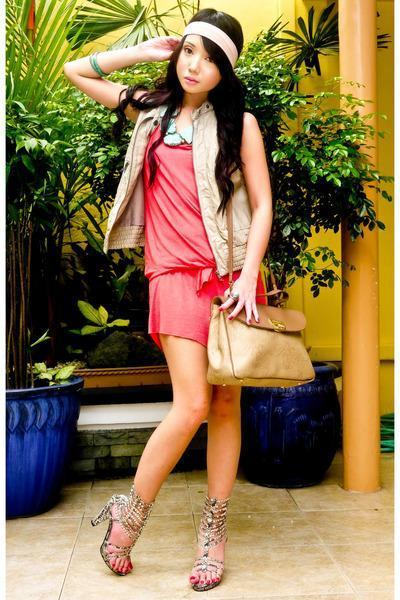bag: (201, 300, 314, 395)
dress: (133, 137, 287, 356)
jacket: (103, 89, 271, 280), (258, 228, 270, 275)
shoe: (102, 492, 239, 591)
